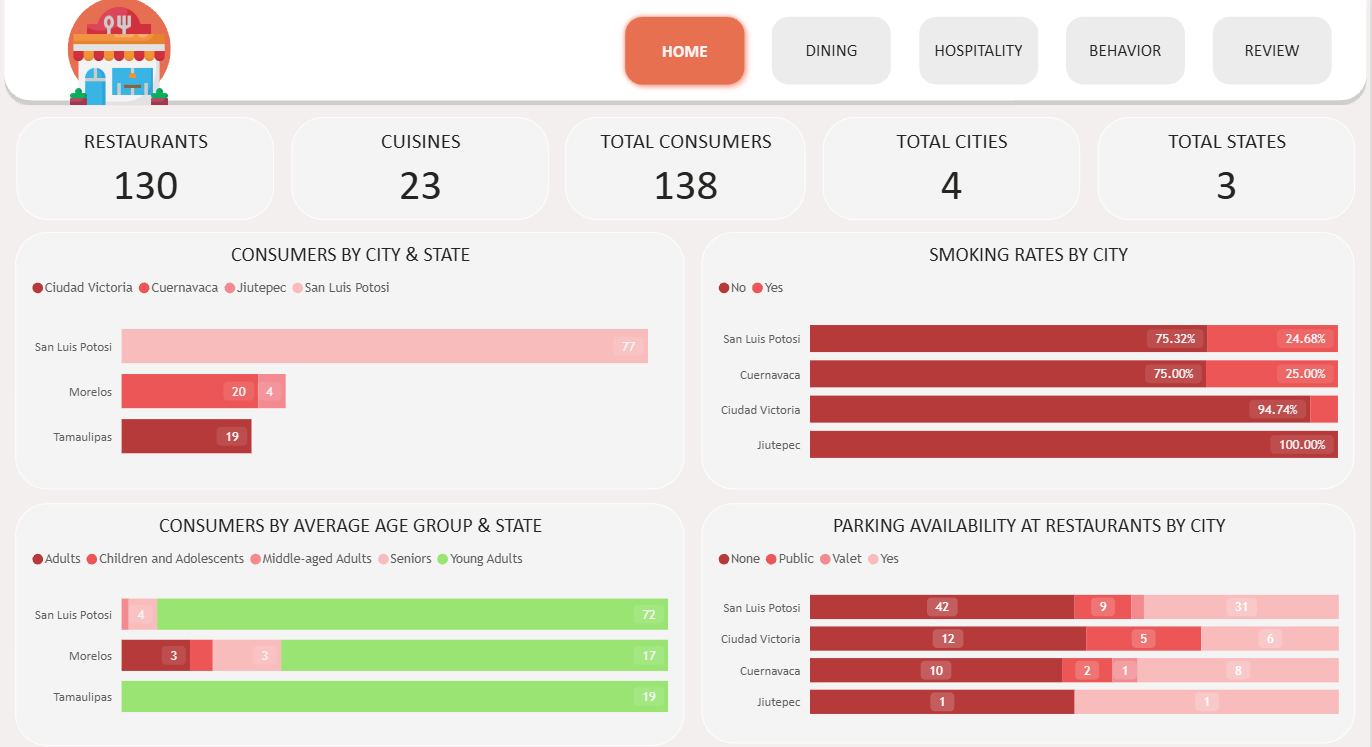

The dashboard page shown, as its layout file describes it:
{"tool":"powerbi","page":{"name":"HOME","canvas":[1280,720],"ordinal":0},"visuals":[{"type":"shape","box":[0,0,1280.5,105.9],"z":0},{"type":"card","title":"TOTAL CITIES","fields":{"Values":["Count(restaurants.City)"]},"box":[768.4,116.5,240,96],"z":1000},{"type":"card","title":"RESTAURANTS","fields":{"Values":["Count(restaurants.Restaurant_ID)"]},"box":[16.4,116.5,240,96],"z":2000},{"type":"card","title":"CUISINES","fields":{"Values":["Count(restaurant_cuisines.Cuisine)"]},"box":[272.4,116.5,240,96],"z":3000},{"type":"card","title":"TOTAL CONSUMERS","fields":{"Values":["Count(consumer_preferences.Consumer_ID)"]},"box":[528.4,116.5,224,96],"z":4000},{"type":"card","title":"TOTAL STATES","fields":{"Values":["Count(restaurants.State)"]},"box":[1024.4,116.5,240,96],"z":5000},{"type":"pageNavigator","box":[576,15.5,677.6,79.1],"z":6000},{"type":"barChart","title":"CONSUMERS BY CITY & STATE","fields":{"Y":["CountNonNull(consumers.Consumer_ID)"],"Category":["consumers.State"],"Series":["consumers.City"]},"box":[15.7,224.1,624.1,239.8],"z":7000},{"type":"hundredPercentStackedBarChart","title":"CONSUMERS BY AVERAGE AGE GROUP & STATE","fields":{"Category":["consumers.State"],"Y":["CountNonNull(consumers.Consumer_ID)"],"Series":["consumers.AgeGroup"]},"box":[15.7,477.1,624.1,226.5],"z":8000},{"type":"hundredPercentStackedBarChart","title":"SMOKING RATES BY CITY","fields":{"Y":["CountNonNull(consumers.Consumer_ID)"],"Category":["consumers.City"],"Series":["consumers.Smoker"]},"box":[655.4,224.1,608.4,239.8],"z":9000},{"type":"hundredPercentStackedBarChart","title":"PARKING AVAILABILITY AT RESTAURANTS BY CITY","fields":{"Category":["restaurants.City"],"Y":["CountNonNull(restaurants.Restaurant_ID)"],"Series":["restaurants.Parking"]},"box":[655.4,477.1,609.6,224.1],"z":10000},{"type":"shape","box":[63.7,4.4,96.2,96.7],"z":11000},{"type":"image","box":[56,9.3,111.5,101.1],"z":12000}]}

Visuals, with their boxes on the page's 1280x720 design canvas (x1, y1, x2, y2). These are canvas units, not pixel positions in the 1372x747 screenshot, which may show the page scaled, cropped or inside an application window:
shape: left=0, top=0, right=1280, bottom=106
"TOTAL CITIES" card: left=768, top=116, right=1008, bottom=212
"RESTAURANTS" card: left=16, top=116, right=256, bottom=212
"CUISINES" card: left=272, top=116, right=512, bottom=212
"TOTAL CONSUMERS" card: left=528, top=116, right=752, bottom=212
"TOTAL STATES" card: left=1024, top=116, right=1264, bottom=212
pageNavigator: left=576, top=16, right=1254, bottom=95
"CONSUMERS BY CITY & STATE" barChart: left=16, top=224, right=640, bottom=464
"CONSUMERS BY AVERAGE AGE GROUP & STATE" hundredPercentStackedBarChart: left=16, top=477, right=640, bottom=704
"SMOKING RATES BY CITY" hundredPercentStackedBarChart: left=655, top=224, right=1264, bottom=464
"PARKING AVAILABILITY AT RESTAURANTS BY CITY" hundredPercentStackedBarChart: left=655, top=477, right=1265, bottom=701
shape: left=64, top=4, right=160, bottom=101
image: left=56, top=9, right=168, bottom=110
